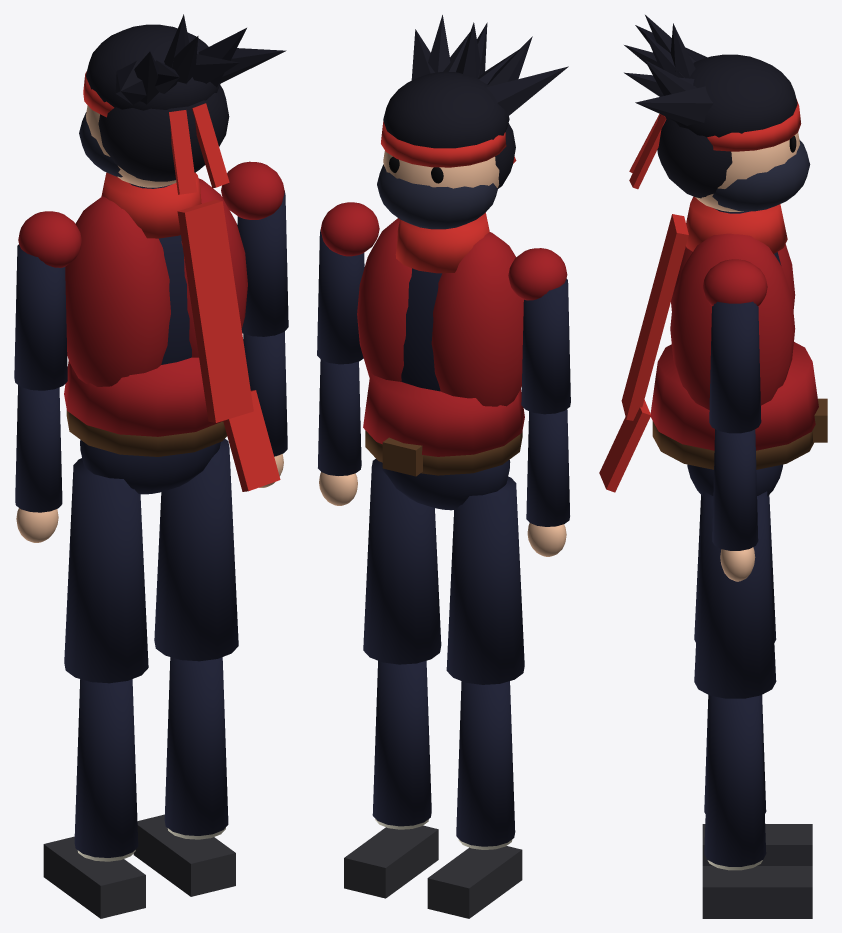
Rendered from shinobi.glb.
The picture shows the model from 3 angles, left to right: view 1: azimuth 30°, elevation 25°; view 2: azimuth 150°, elevation 25°; view 3: azimuth 270°, elevation 25°; orthographic projection. The views are drawn at different scales.
Visible parts, largest first — view 1: Torso, LegL, LegR, Head, ArmL, ArmR, Hips; view 2: Torso, LegL, LegR, Head, ArmL, ArmR, Hips; view 3: Torso, LegR, Head, ArmR, Hips, LegL.
Boxes of the visible parts, x1,y1,x2,y2 form: Torso: [64, 172, 280, 491]; LegL: [43, 458, 148, 918]; LegR: [133, 439, 238, 896]; Head: [79, 14, 286, 194]; ArmL: [14, 211, 81, 542]; ArmR: [221, 161, 288, 487]; Hips: [66, 410, 226, 494]; Torso: [357, 212, 524, 456]; LegL: [427, 476, 524, 918]; LegR: [344, 459, 441, 898]; Head: [377, 15, 568, 229]; ArmL: [508, 248, 570, 556]; ArmR: [317, 202, 379, 505]; Hips: [365, 430, 522, 510]; Torso: [599, 196, 818, 492]; LegR: [694, 491, 812, 918]; Head: [624, 15, 810, 211]; ArmR: [703, 259, 767, 581]; Hips: [652, 398, 827, 496]; LegL: [694, 495, 812, 865].
Bounding box in the file's own units: 0.5914 × 1.91 × 0.457.
